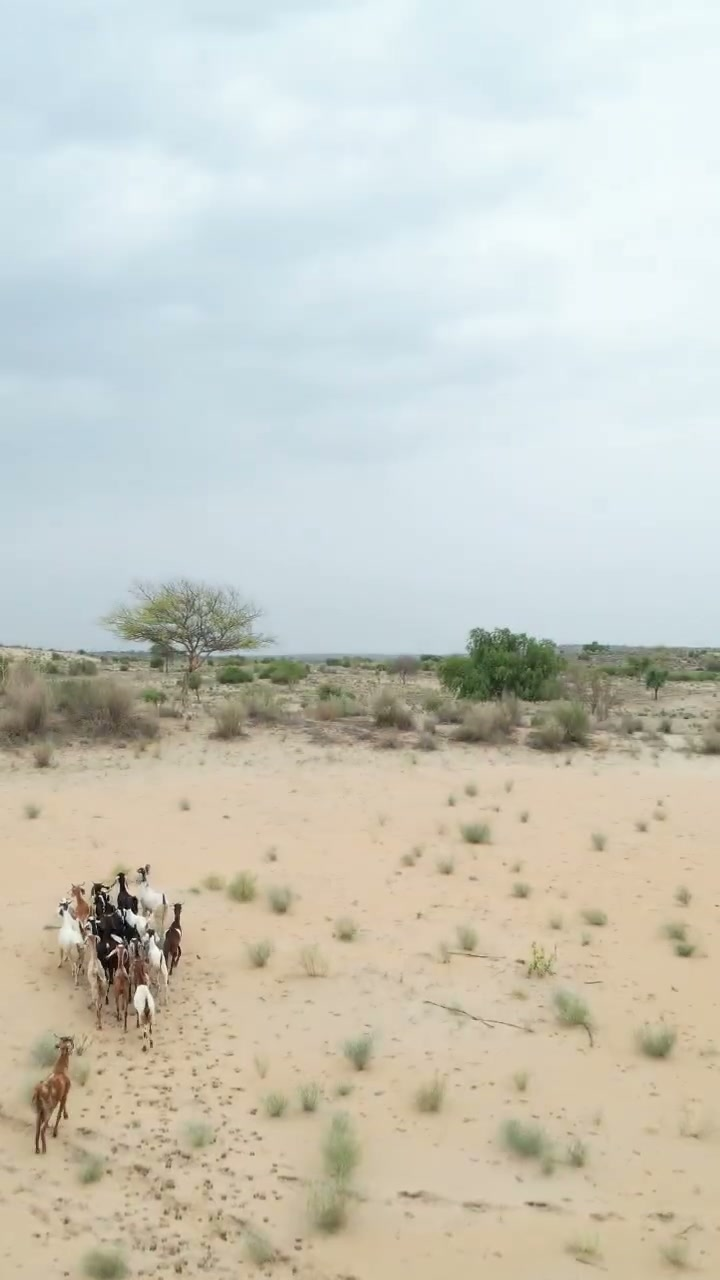animal_footprint: (54, 989, 273, 1265)
